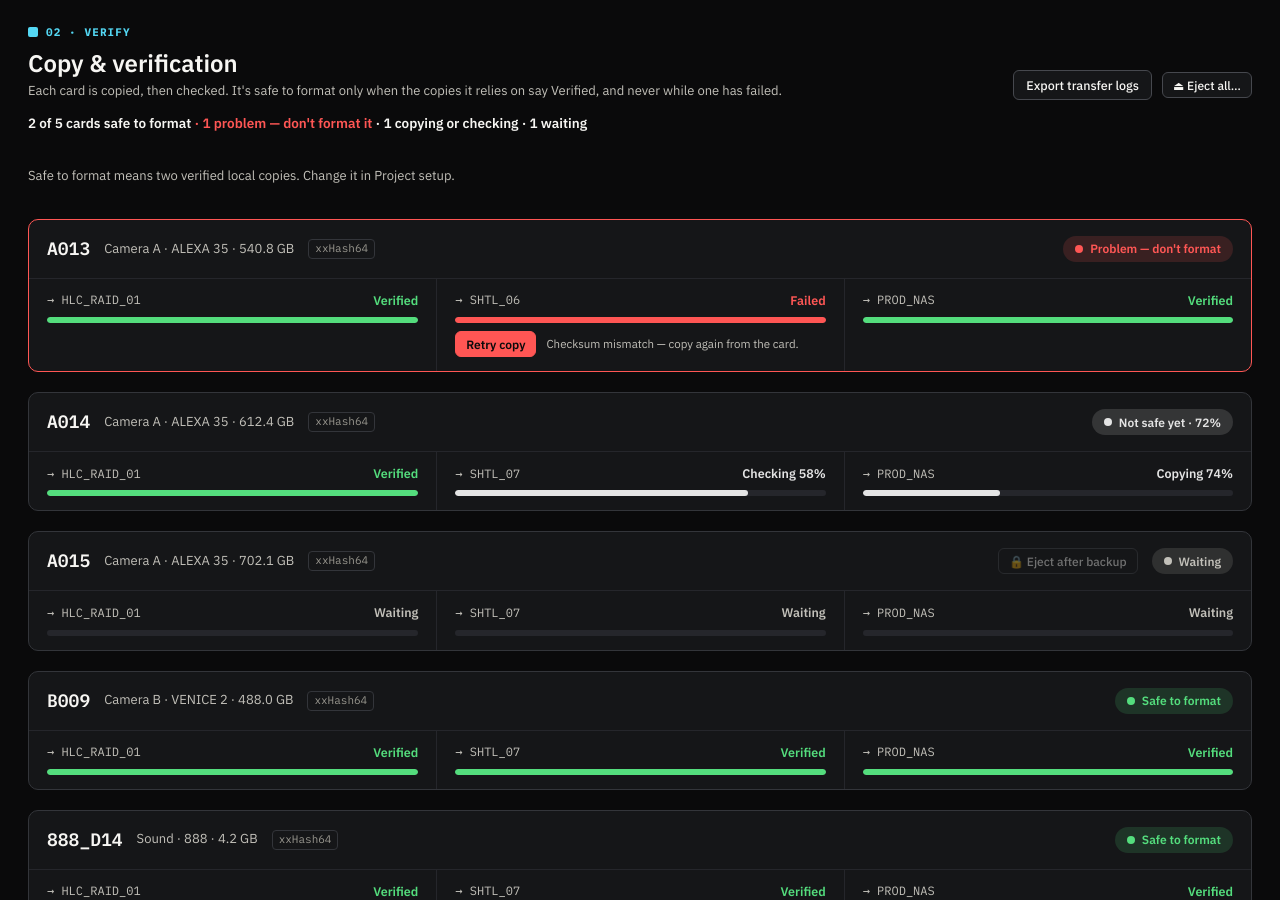
Verify › puts the problem card first, never offers to format, and retry clears the problem
Expected: the text "Problem — don't format" is shown, [1063,236,1233,262]
Click the button with aria-label "Retry copy A013 → SHTL_06".
click(496, 344)  # box [455,331,536,357]
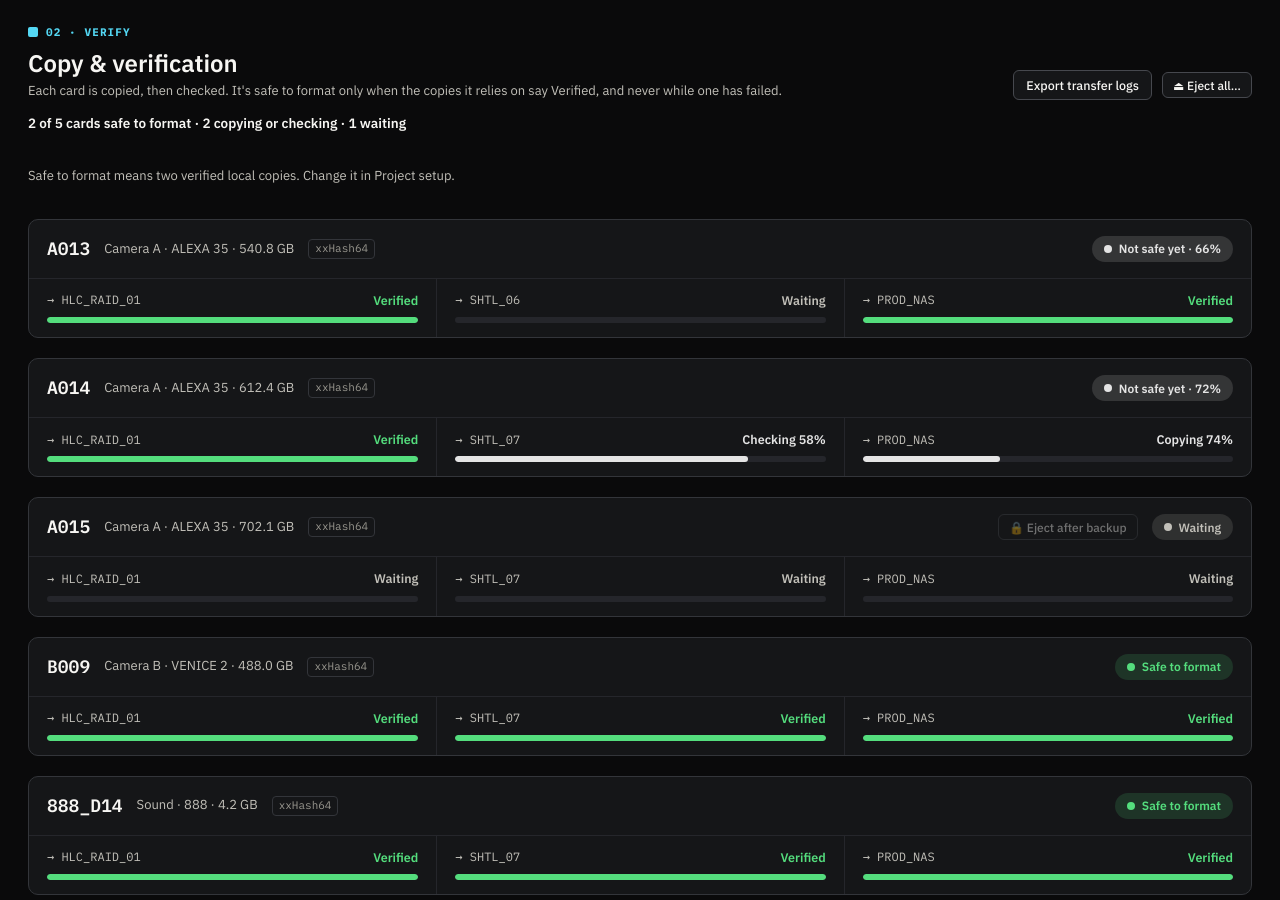
Result: the text "problem — don't format" is gone
